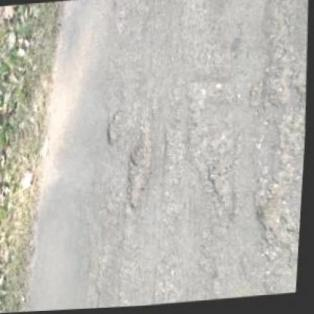Hueco: (125, 129, 156, 213), (254, 187, 296, 240), (205, 155, 236, 210), (267, 70, 292, 111), (106, 109, 126, 146)
